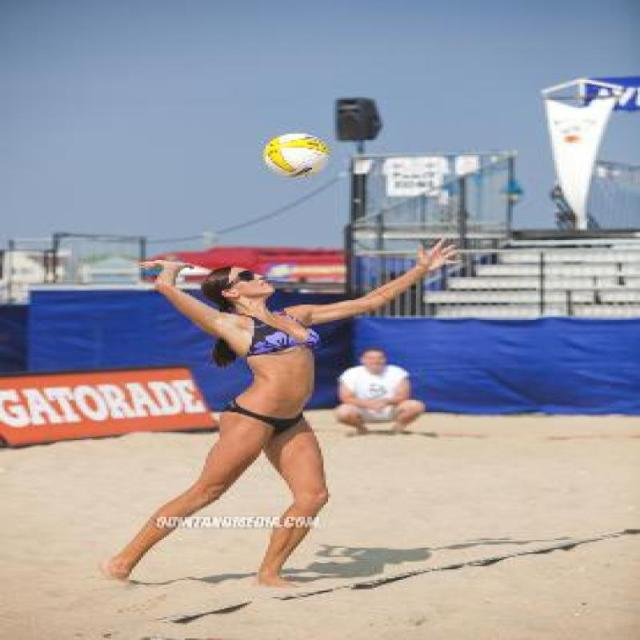volleyball: (258, 130, 333, 180)
